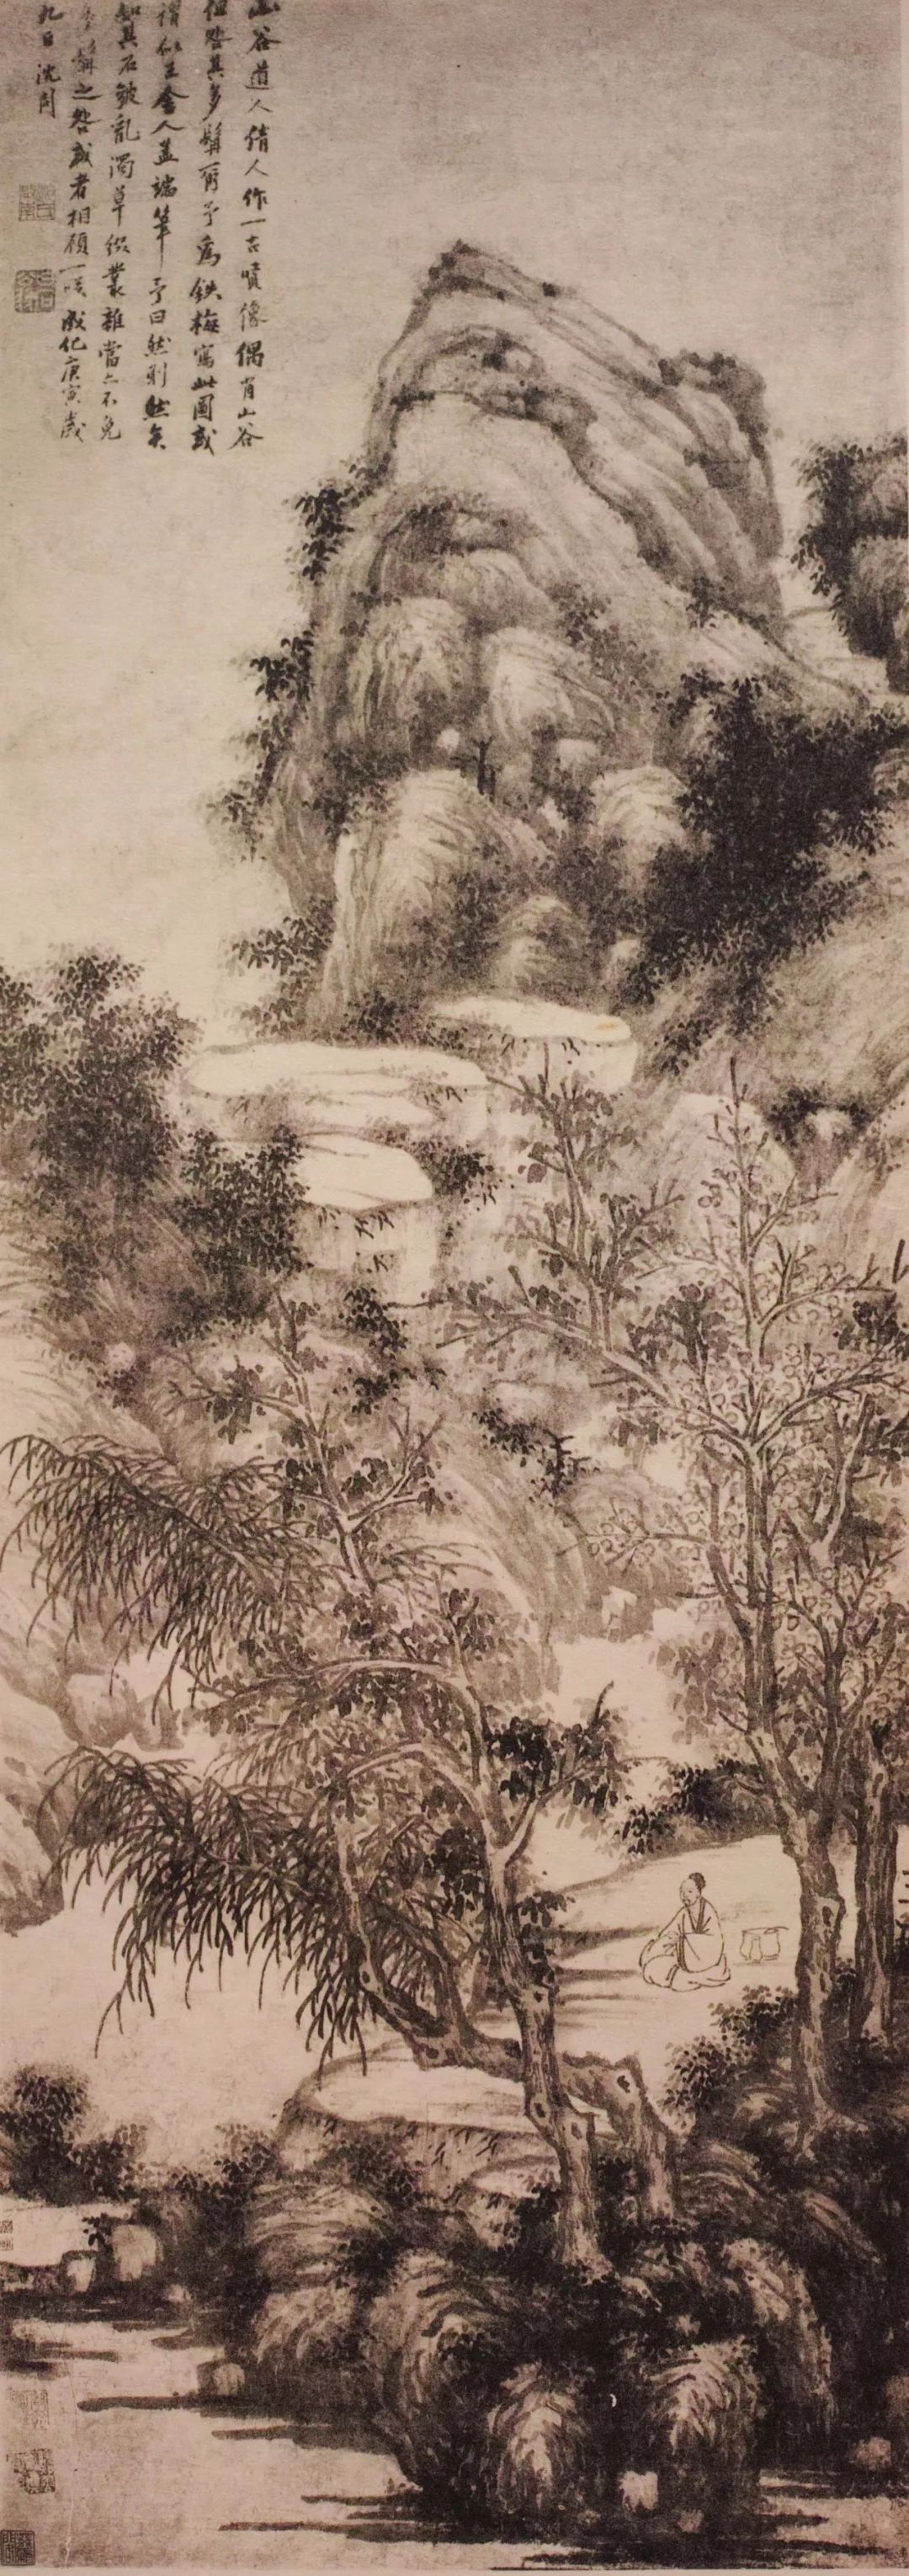man: (656, 1884, 719, 1981)
mountain: (428, 275, 775, 705), (292, 509, 414, 1000), (482, 727, 662, 968), (824, 920, 898, 1242), (814, 457, 906, 664)
tree: (732, 1569, 903, 2123), (254, 1702, 523, 1951), (24, 1474, 365, 1667), (13, 1000, 181, 1357), (50, 1747, 241, 2035), (680, 1324, 909, 1541), (189, 1158, 322, 1490), (705, 745, 859, 936), (523, 1085, 629, 1359), (708, 1071, 779, 1335), (420, 1962, 540, 2099), (531, 2106, 613, 2277), (545, 2063, 621, 2112)
